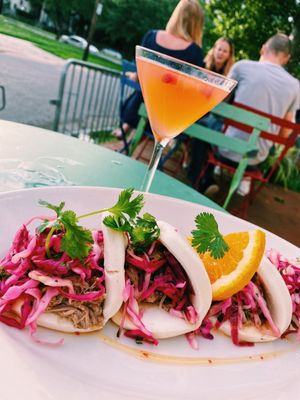taco: (203, 230, 266, 302)
